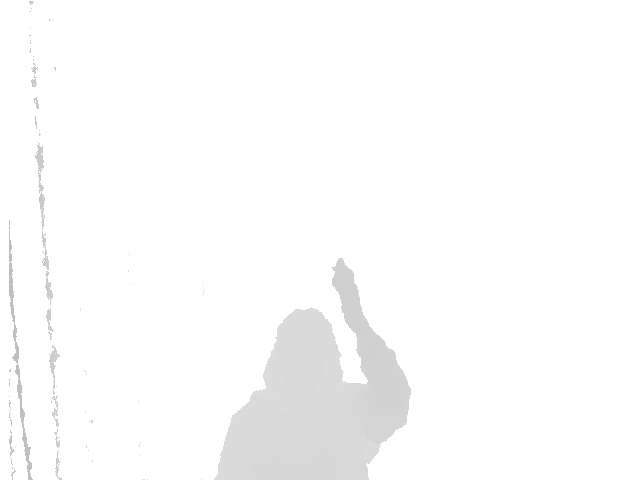hand: (331, 258, 368, 328)
head: (263, 307, 341, 385)
person: (216, 258, 411, 480)
